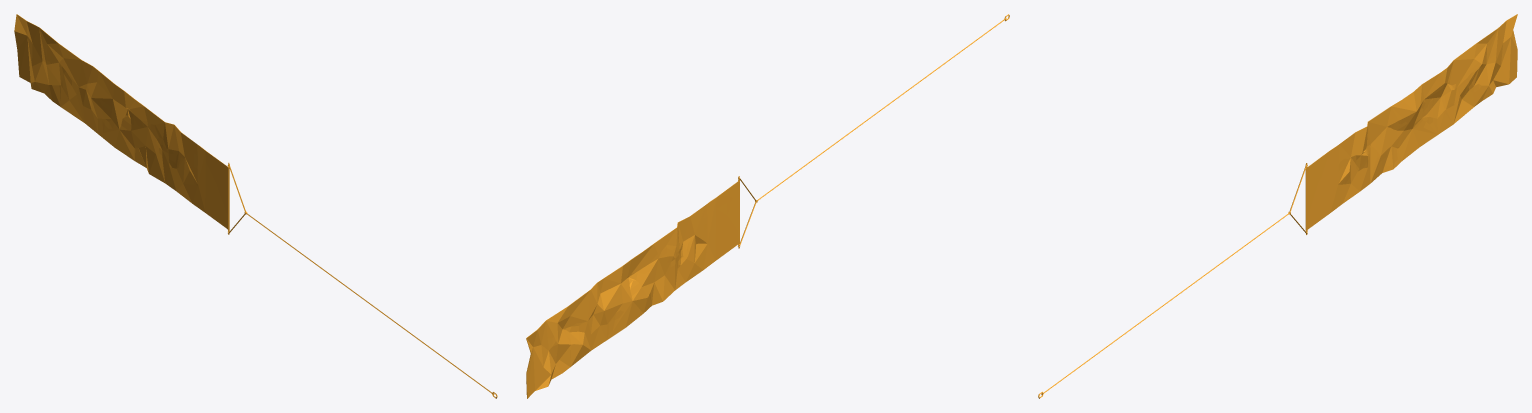
File: SM_Plane_Banner_Polyperfect.fbx
3 views of the same model, side by side, from view 1: azimuth 30°, elevation 25°; view 2: azimuth 150°, elevation 25°; view 3: azimuth 330°, elevation 25° (orthographic).
Visible parts, largest first — view 1: SM_Plane_Banner_Polyperfect; view 2: SM_Plane_Banner_Polyperfect; view 3: SM_Plane_Banner_Polyperfect.
Boxes of the visible parts, x1,y1,x2,y2 form: SM_Plane_Banner_Polyperfect: (14,14,497,398); SM_Plane_Banner_Polyperfect: (526,14,1009,398); SM_Plane_Banner_Polyperfect: (1038,14,1517,398).
Bounding box in the file's own units: 0.3586 × 2.74 × 33.18.
